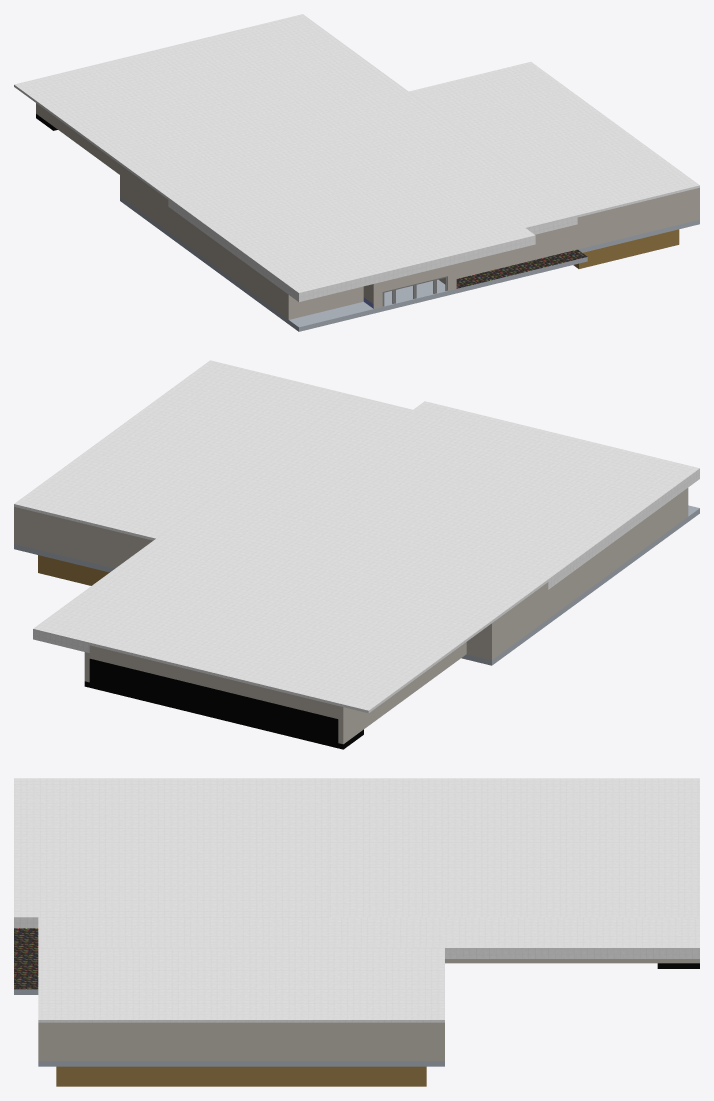
3 renders of one model, top to bottom at view 1: azimuth 30°, elevation 25°; view 2: azimuth 150°, elevation 25°; view 3: azimuth 270°, elevation 25°, orthographic. The views are drawn at different scales.
Parts seen in each view (by area): view 1: fl-ceil__bounding_box.023, fl-ceil__bounding_box.024, fl-ceil__bounding_box.026, fl-ceil__bounding_box.025, walls_bounding_box.006, fl-ceil_bounding_box.000, walls_bounding_box.002, doublelane_concave.000, walls_bounding_box.001, walls_bounding_box.021, walls_bounding_box.014, doublelane_concave.001; view 2: fl-ceil__bounding_box.023, fl-ceil__bounding_box.024, fl-ceil__bounding_box.026, fl-ceil__bounding_box.025, walls_bounding_box.002, walls_bounding_box.003, walls_bounding_box.005, walls_bounding_box.004, walls_bounding_box.014, singlelanes_bounding_box.050, fl-ceil_bounding_box.000, doublelane_concave.000; view 3: fl-ceil__bounding_box.023, fl-ceil__bounding_box.024, fl-ceil__bounding_box.026, fl-ceil__bounding_box.025, walls_bounding_box.008, doublelane_concave.000, doublelane_concave.001, fl-ceil_bounding_box.000, walls_bounding_box.010.
Boxes of the visible parts, x1,y1,x2,y2 form: fl-ceil__bounding_box.023: [14, 27, 404, 199]; fl-ceil__bounding_box.024: [168, 140, 535, 301]; fl-ceil__bounding_box.026: [409, 62, 699, 217]; fl-ceil__bounding_box.025: [251, 14, 577, 234]; walls_bounding_box.006: [456, 189, 695, 278]; fl-ceil_bounding_box.000: [120, 196, 587, 331]; walls_bounding_box.002: [120, 164, 293, 319]; doublelane_concave.000: [573, 229, 679, 268]; walls_bounding_box.001: [293, 286, 363, 318]; walls_bounding_box.021: [378, 265, 452, 307]; walls_bounding_box.014: [36, 103, 119, 174]; doublelane_concave.001: [578, 219, 699, 252]; fl-ceil__bounding_box.023: [93, 512, 548, 713]; fl-ceil__bounding_box.024: [273, 401, 699, 589]; fl-ceil__bounding_box.026: [14, 360, 351, 540]; fl-ceil__bounding_box.025: [33, 395, 412, 652]; walls_bounding_box.002: [487, 488, 688, 660]; walls_bounding_box.003: [89, 658, 338, 742]; walls_bounding_box.005: [19, 508, 152, 568]; walls_bounding_box.004: [89, 645, 338, 718]; walls_bounding_box.014: [338, 642, 466, 744]; singlelanes_bounding_box.050: [84, 681, 363, 749]; fl-ceil_bounding_box.000: [461, 505, 699, 665]; doublelane_concave.000: [38, 555, 109, 585]; fl-ceil__bounding_box.023: [328, 778, 699, 917]; fl-ceil__bounding_box.024: [14, 778, 328, 928]; fl-ceil__bounding_box.026: [38, 948, 444, 1022]; fl-ceil__bounding_box.025: [38, 917, 699, 958]; walls_bounding_box.008: [38, 1022, 444, 1061]; doublelane_concave.000: [56, 1066, 426, 1086]; doublelane_concave.001: [38, 1061, 444, 1066]; fl-ceil_bounding_box.000: [14, 928, 38, 994]; walls_bounding_box.010: [445, 959, 699, 963].
Size of what is drawn, in the model's own units: 94.15 by 13.5 by 113.
13 materials, 5 textured.
